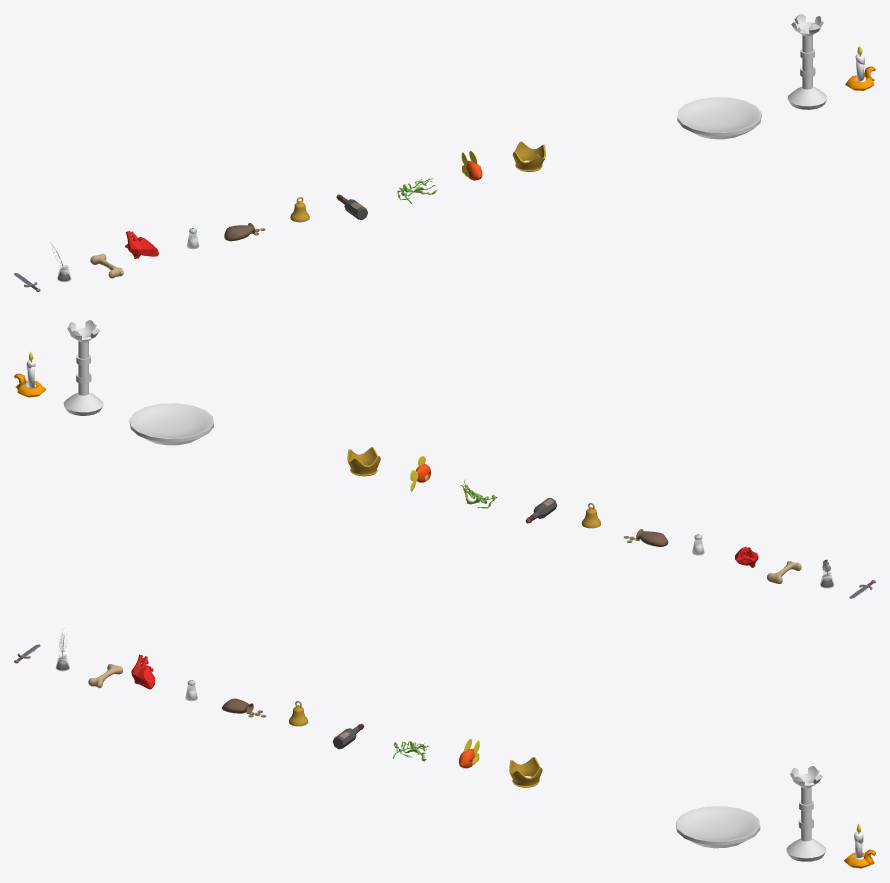
Rendered from items.fbx.
3 views of the same model, one above another, from view 1: azimuth 30°, elevation 25°; view 2: azimuth 150°, elevation 25°; view 3: azimuth 330°, elevation 25° (orthographic).
Visible parts, largest first — view 1: Ceremonial Plate, Candle Holder, Crown, Candle.001, 1410 Heart; view 2: Ceremonial Plate, Candle Holder, Crown, Candle.001; view 3: Ceremonial Plate, Candle Holder, Crown, Candle.001, 1410 Heart.
Part boxes in pixels (x1,y1,x2,y2): Ceremonial Plate: [677, 97, 761, 139]; Candle Holder: [787, 14, 827, 109]; Crown: [512, 141, 545, 171]; Candle.001: [845, 45, 875, 90]; 1410 Heart: [125, 231, 158, 258]; Ceremonial Plate: [129, 403, 213, 445]; Candle Holder: [63, 320, 103, 415]; Crown: [347, 447, 380, 476]; Candle.001: [14, 352, 45, 397]; Ceremonial Plate: [676, 806, 760, 848]; Candle Holder: [786, 766, 826, 861]; Crown: [509, 757, 542, 787]; Candle.001: [844, 823, 875, 868]; 1410 Heart: [131, 654, 154, 689].
Bounding box in the file's own units: 2320 × 223 × 200.
